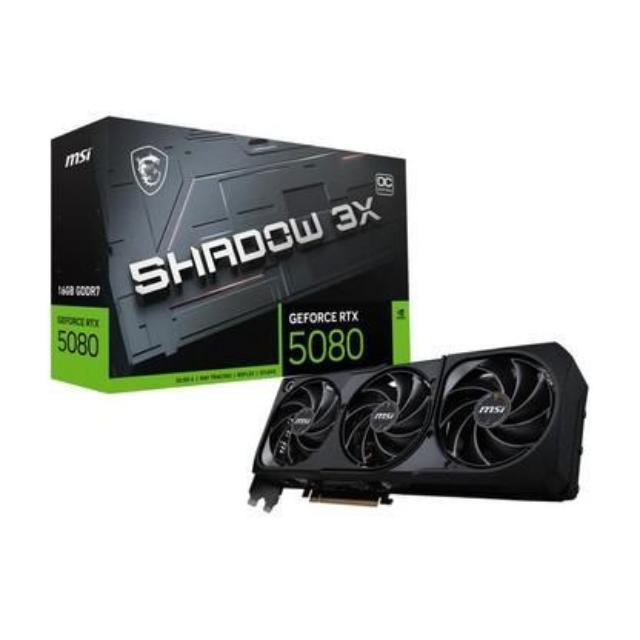GPU: (247, 341, 590, 541)
